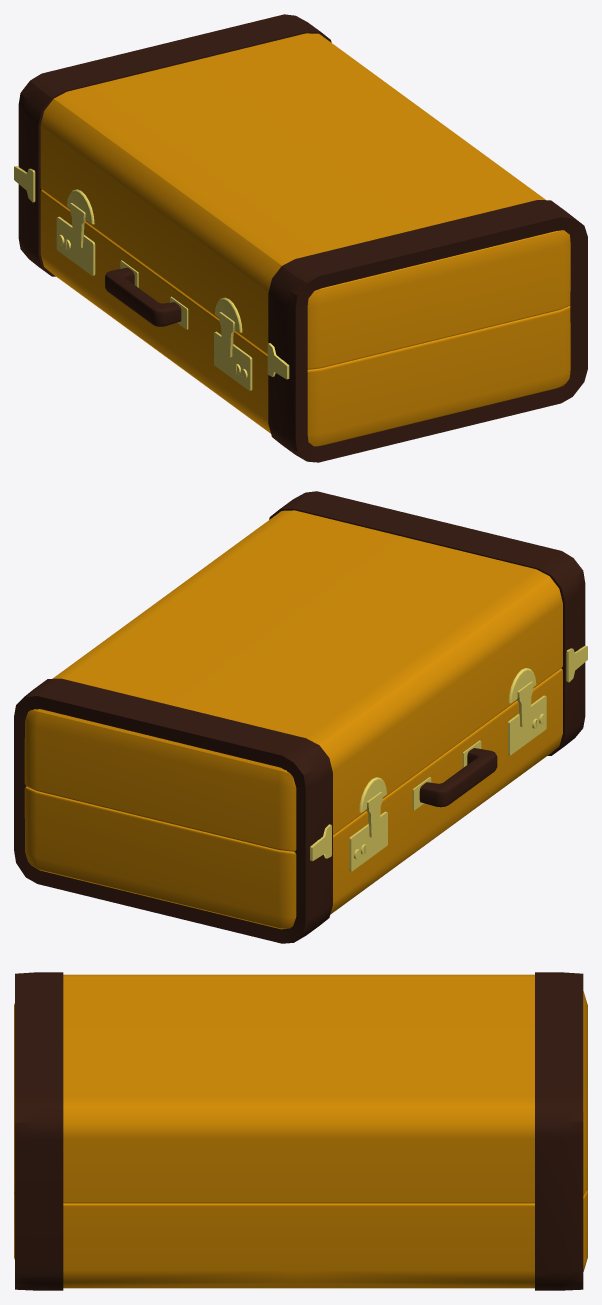
The model's file is Yellow_briefcase.fbx.
3 renders of one model, top to bottom at view 1: azimuth 30°, elevation 25°; view 2: azimuth 150°, elevation 25°; view 3: azimuth 270°, elevation 25°, orthographic. The views are drawn at different scales.
Visible parts, largest first — view 1: polySurface2; view 2: polySurface2; view 3: polySurface2.
Part boxes in pixels (bbox=[...]): polySurface2: bbox=[14, 14, 587, 462]; polySurface2: bbox=[14, 491, 587, 943]; polySurface2: bbox=[14, 972, 587, 1290].
Bounding box in the file's own units: 10.58 × 5.89 × 16.03.
